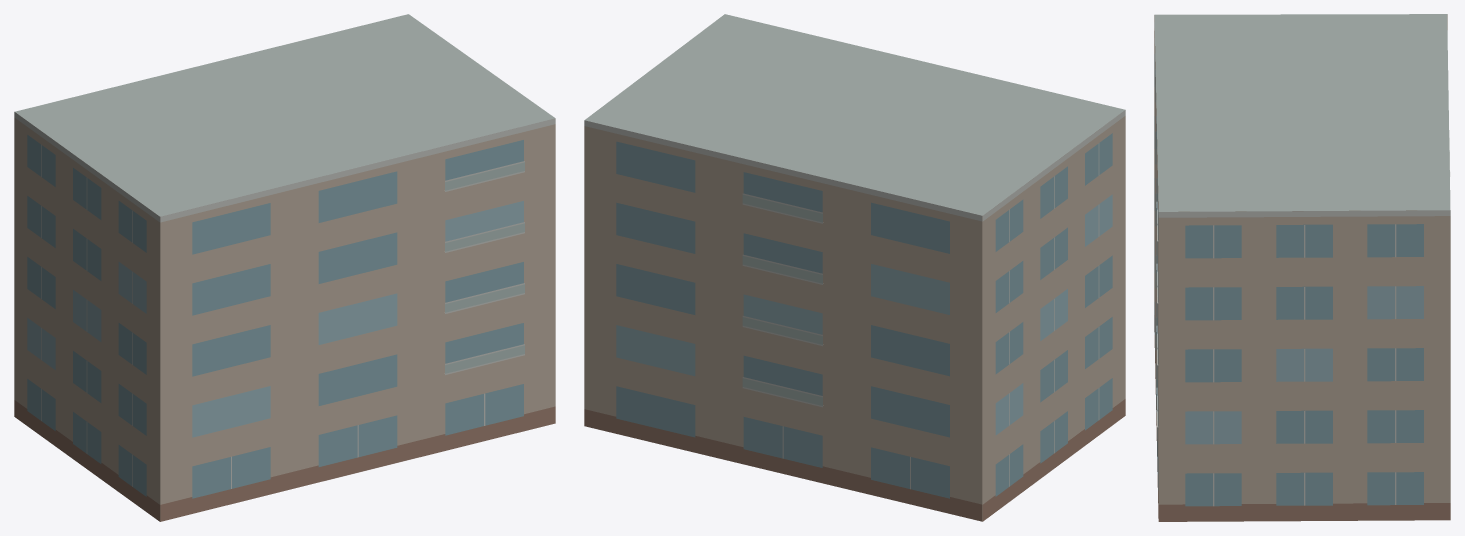
File: survey-upis-32814272.glb
3 views of the same model, side by side, from view 1: azimuth 30°, elevation 25°; view 2: azimuth 150°, elevation 25°; view 3: azimuth 270°, elevation 25° (orthographic).
Parts seen in each view (by area): view 1: survey-upis-32814272.tmp; view 2: survey-upis-32814272.tmp; view 3: survey-upis-32814272.tmp.
Part boxes in pixels (x1,y1,x2,y2): survey-upis-32814272.tmp: (14, 14, 555, 521); survey-upis-32814272.tmp: (584, 14, 1125, 521); survey-upis-32814272.tmp: (1154, 14, 1450, 521).
Size of the model in its own units: 17.67 by 12.9 by 11.18.
